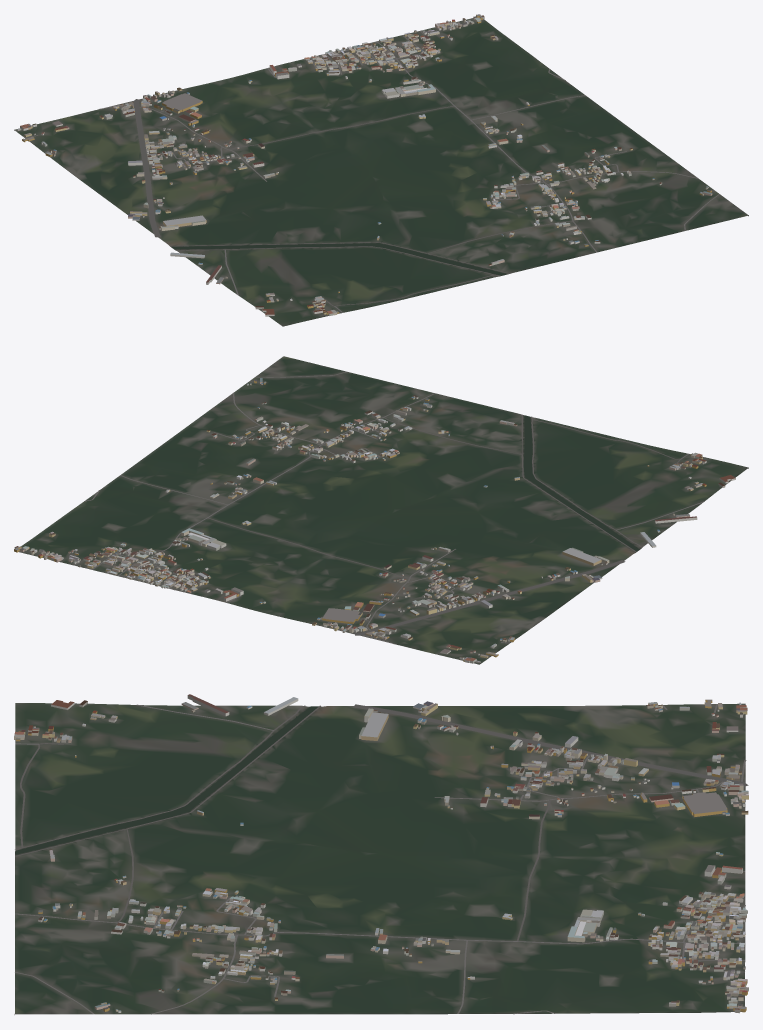
3 renders of one model, top to bottom at view 1: azimuth 30°, elevation 25°; view 2: azimuth 150°, elevation 25°; view 3: azimuth 270°, elevation 25°, orthographic. The views are drawn at different scales.
Visible parts, largest first — view 1: ground, buildings, roads, water; view 2: ground, buildings, roads, water; view 3: ground, buildings, roads, water.
Boxes of the visible parts, <box> form: ground: <box>14,18,748,326</box>; buildings: <box>17,14,712,316</box>; roads: <box>24,30,719,312</box>; water: <box>171,243,506,275</box>; ground: <box>18,356,748,664</box>; buildings: <box>14,378,735,663</box>; roads: <box>74,371,704,657</box>; water: <box>523,415,639,551</box>; ground: <box>14,703,745,1014</box>; buildings: <box>14,694,748,1013</box>; roads: <box>15,704,748,1014</box>; water: <box>15,706,318,854</box>.
Size of the model in its own units: 1443 by 19.67 by 1410.
